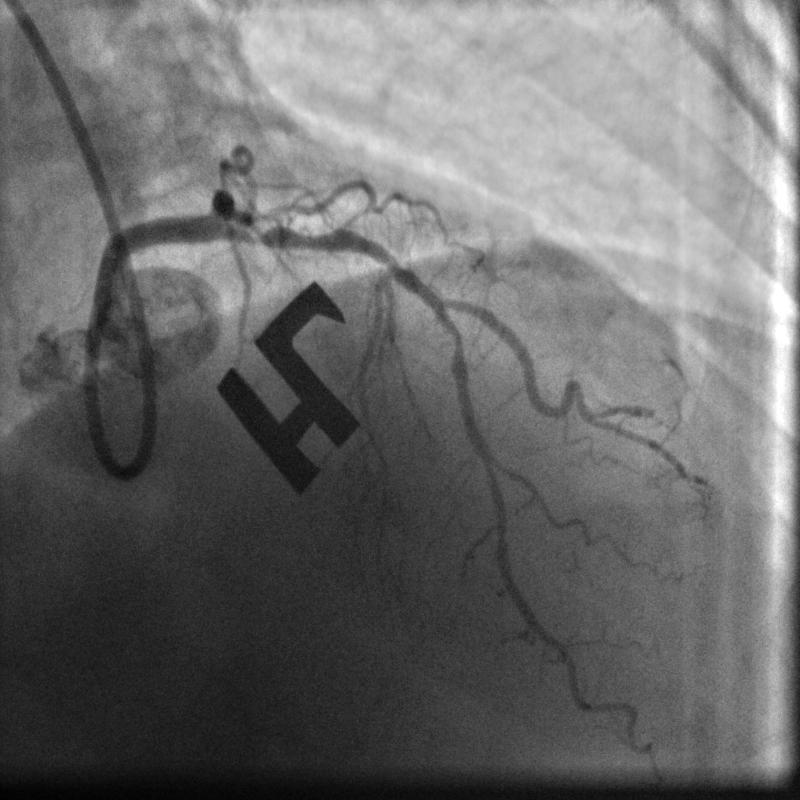Stenosis: (241, 219, 353, 250)
